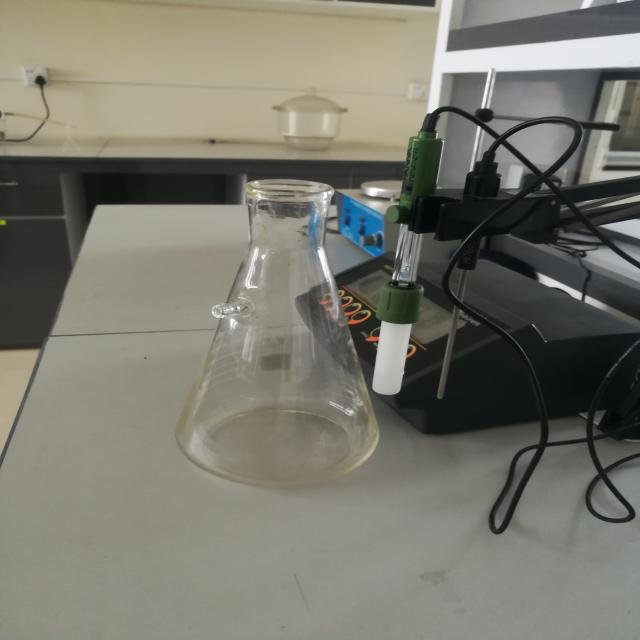Conical_Flask: (153, 144, 420, 512)
